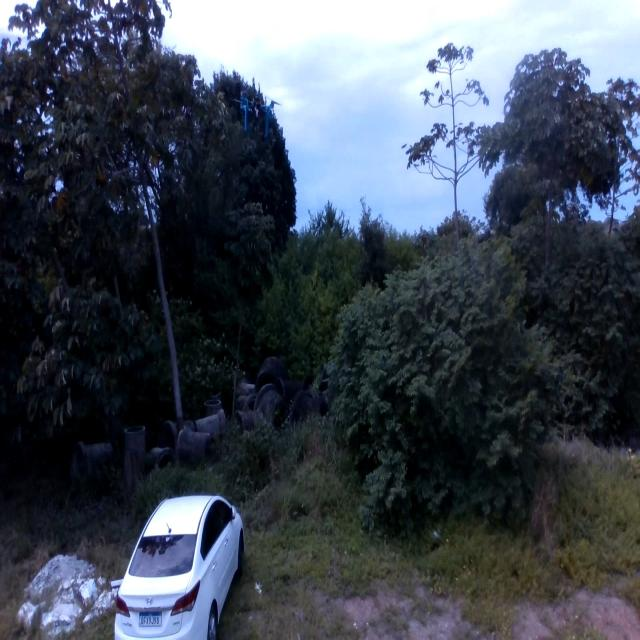-uav-: (234, 92, 281, 143)
